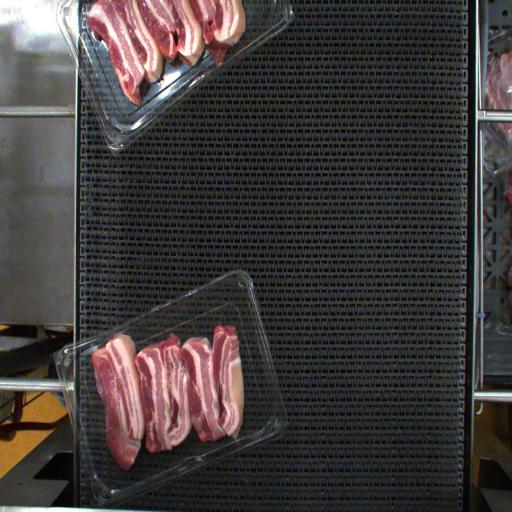packaging-error: (88, 324, 128, 348)
